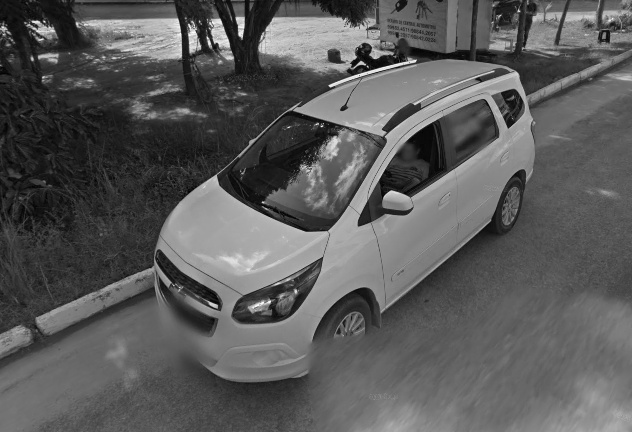car: (149, 55, 537, 385)
